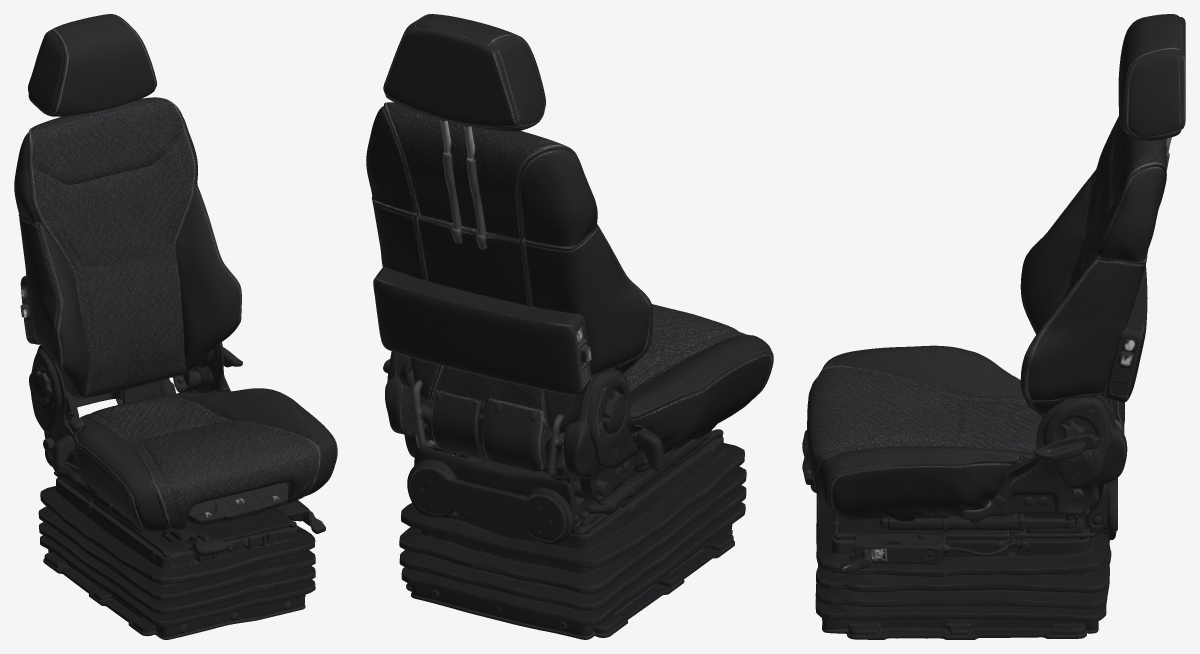
File: sears-seat-optimized.glb
3 renders of one model, left to right at view 1: azimuth 30°, elevation 25°; view 2: azimuth 150°, elevation 25°; view 3: azimuth 270°, elevation 25°, orthographic. The views are drawn at different scales.
Bounding box in the file's own units: 0.8439 × 1.9 × 1.17.
Materials: 1 (1 with a texture image).
